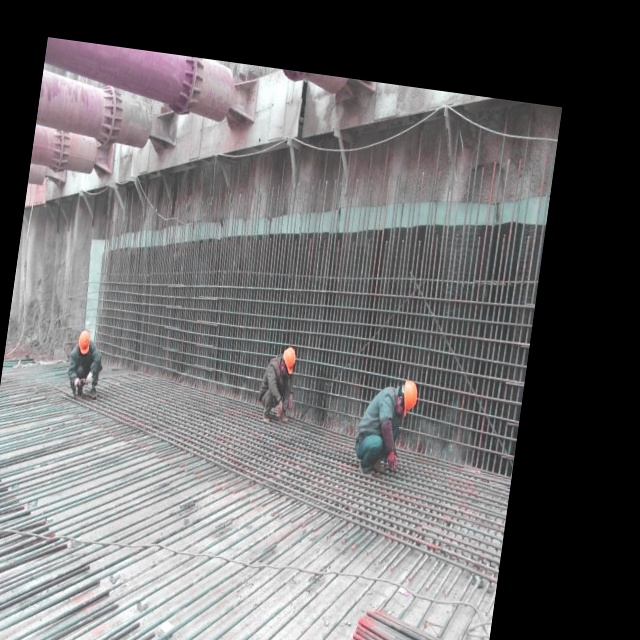Con_Casco: (397, 376, 419, 416), (278, 345, 297, 378), (76, 328, 92, 355)
